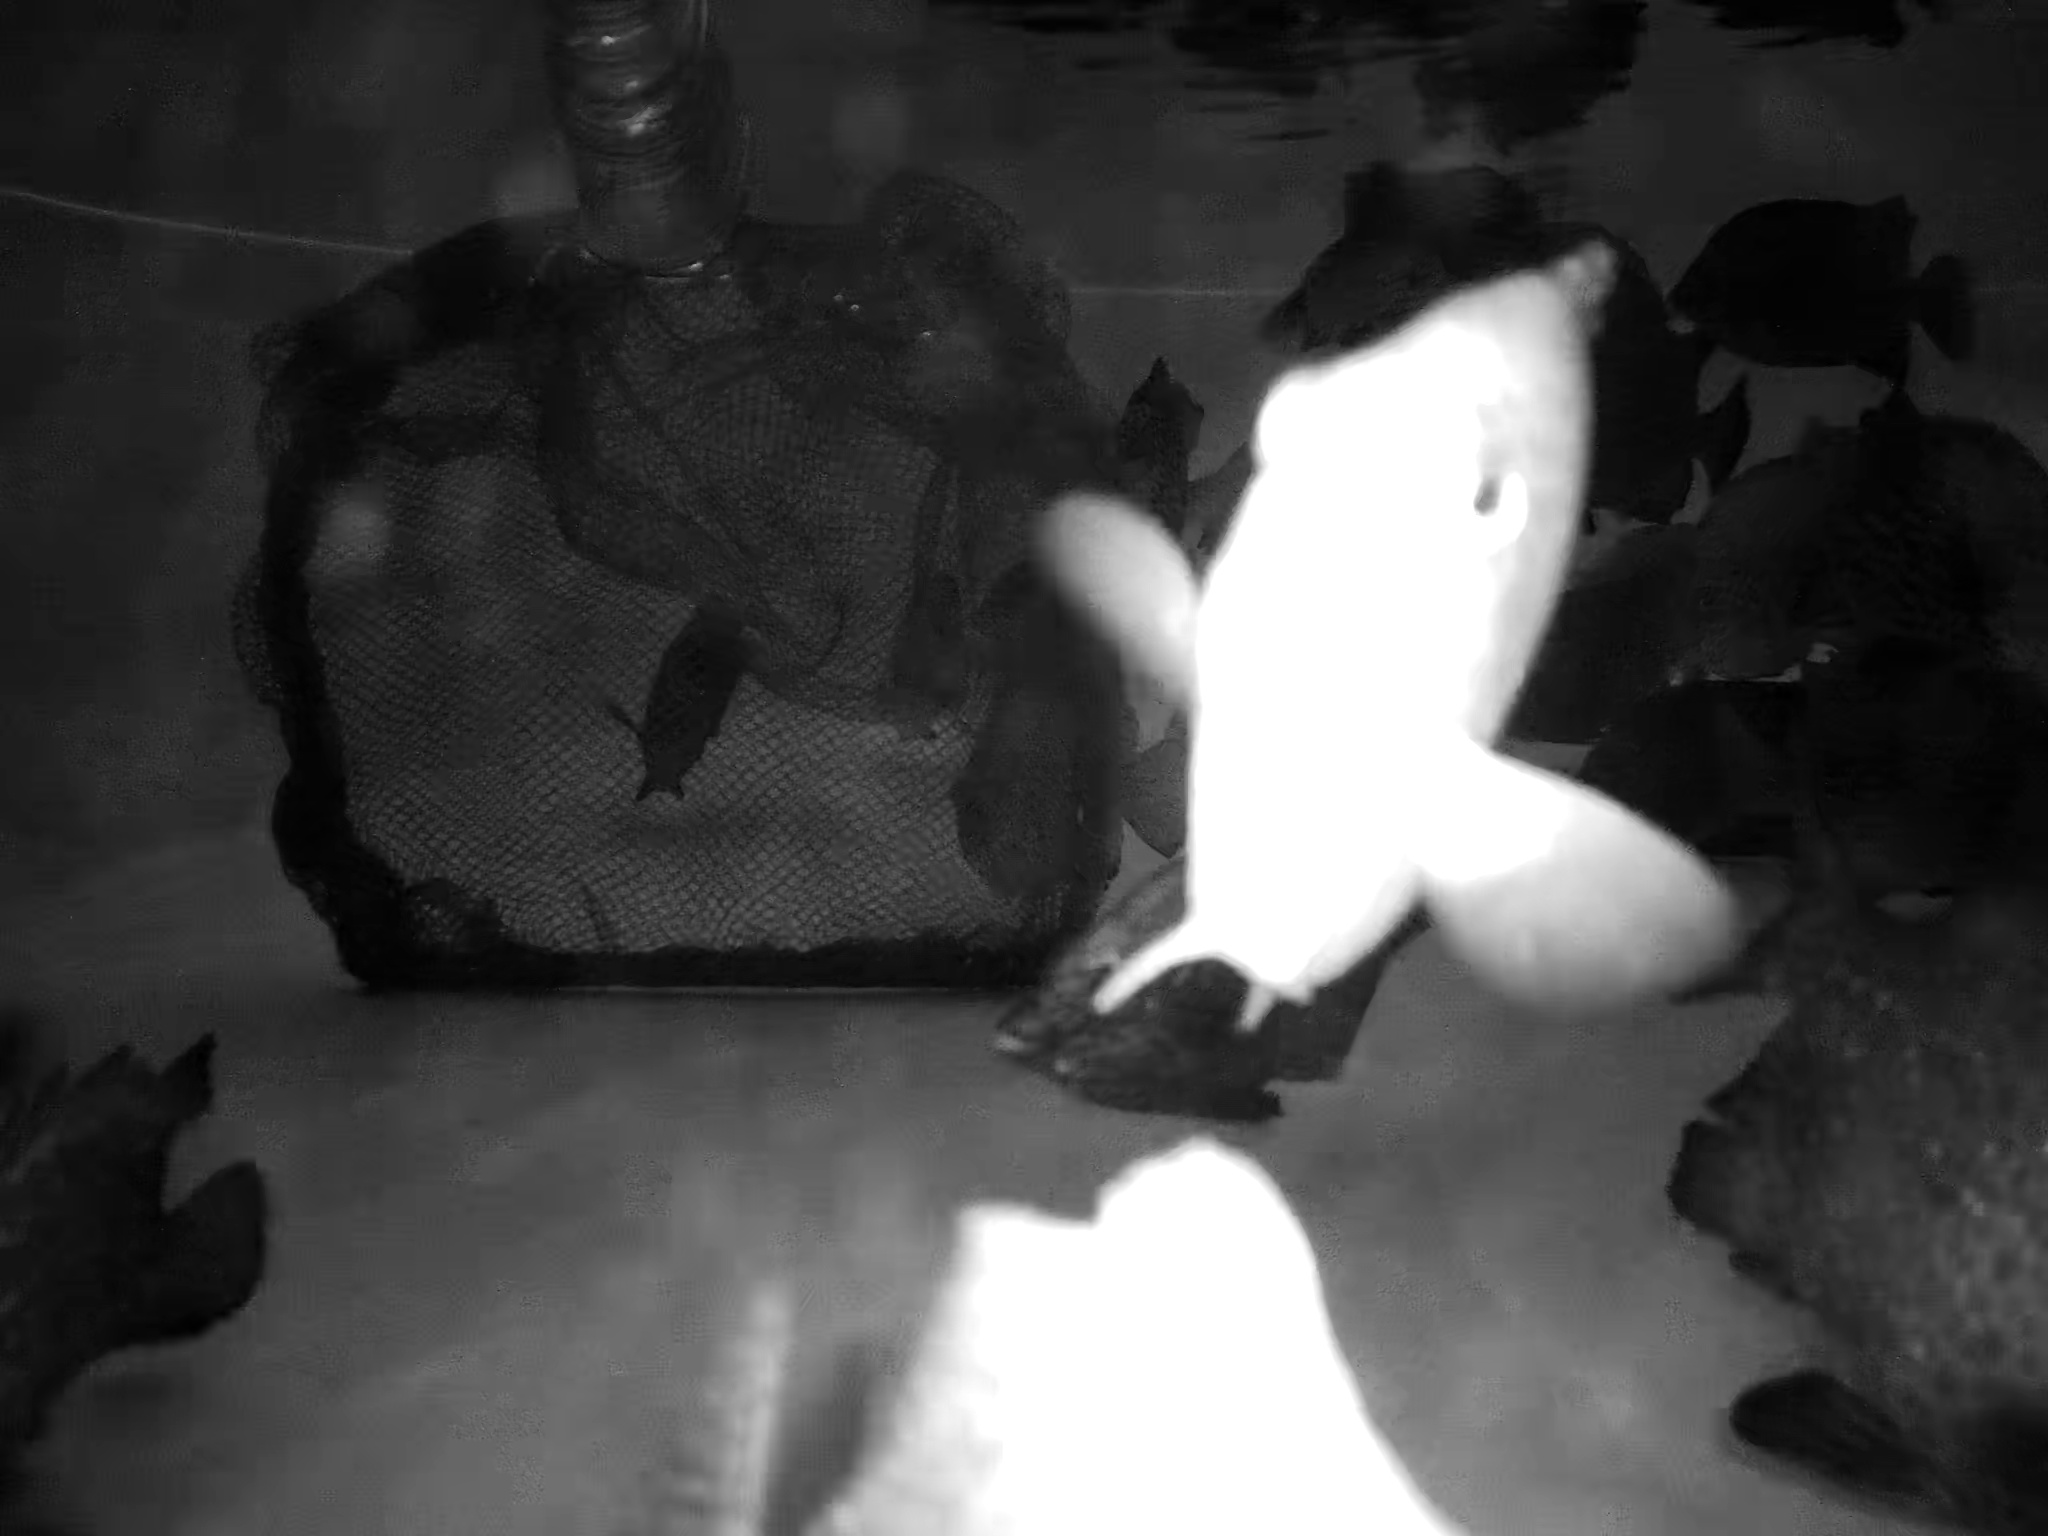fish: (1039, 186, 1734, 1054), (1685, 978, 2048, 1413), (1595, 682, 2048, 904), (972, 881, 1398, 1108), (26, 1037, 258, 1376), (972, 620, 1188, 916), (1684, 190, 2022, 371), (1276, 150, 1559, 340), (1729, 437, 2043, 591), (600, 558, 780, 803), (1548, 536, 1822, 671), (1109, 360, 1255, 563)
